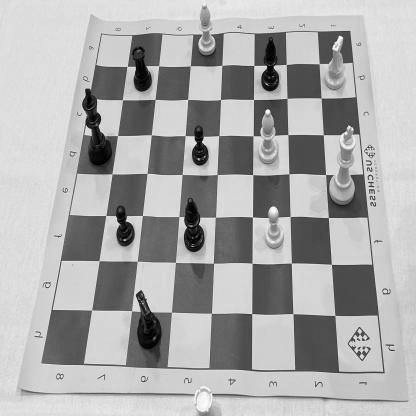black-bishop: (180, 193, 206, 256), (257, 35, 282, 94)
black-king: (77, 85, 114, 168)
black-knight: (132, 287, 164, 352)
black-pawn: (113, 200, 136, 250), (190, 122, 210, 169)
black-rook: (128, 44, 154, 98)
white-bishop: (254, 104, 282, 168), (195, 1, 220, 61)
white-king: (326, 120, 360, 208)
white-knight: (320, 30, 350, 96)
white-pawn: (262, 204, 286, 254)
